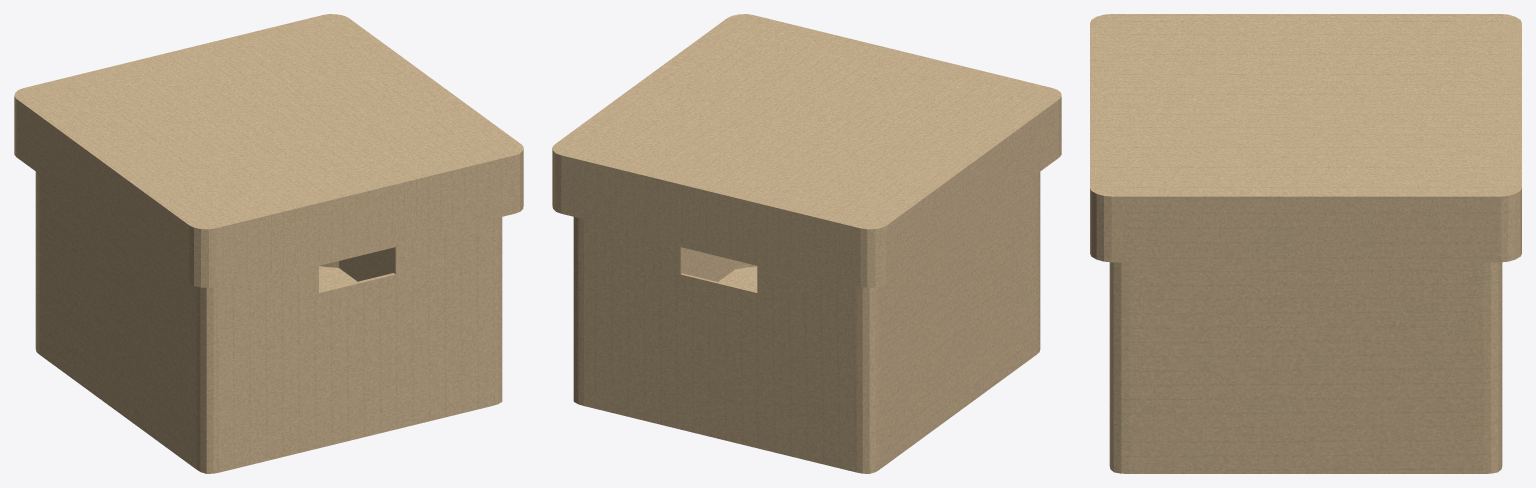
The model's file is cardboard_storage_box.glb.
The picture shows the model from 3 angles, left to right: view 1: azimuth 30°, elevation 25°; view 2: azimuth 150°, elevation 25°; view 3: azimuth 270°, elevation 25°; orthographic projection. The views are drawn at different scales.
Parts seen in each view (by area): view 1: Lid_Material_0, Box_Material_0; view 2: Lid_Material_0, Box_Material_0; view 3: Lid_Material_0, Box_Material_0.
Boxes of the visible parts, box(x1,y1,x2,y2) form: Lid_Material_0: box(14, 14, 523, 287); Box_Material_0: box(35, 171, 502, 473); Lid_Material_0: box(552, 14, 1061, 287); Box_Material_0: box(573, 172, 1040, 473); Lid_Material_0: box(1090, 14, 1521, 262); Box_Material_0: box(1109, 262, 1502, 473).
Size of the model in its own units: 2.2 by 1.61 by 2.2.
Materials: 1 (1 with a texture image).
